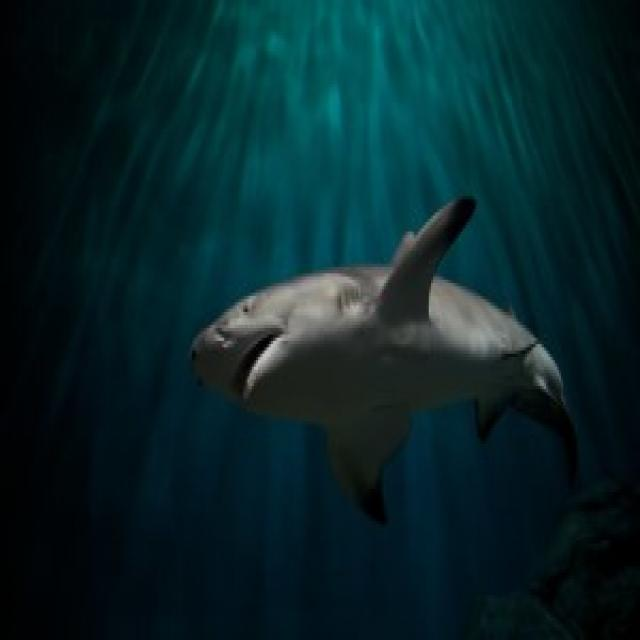Shark: (186, 194, 589, 532)
